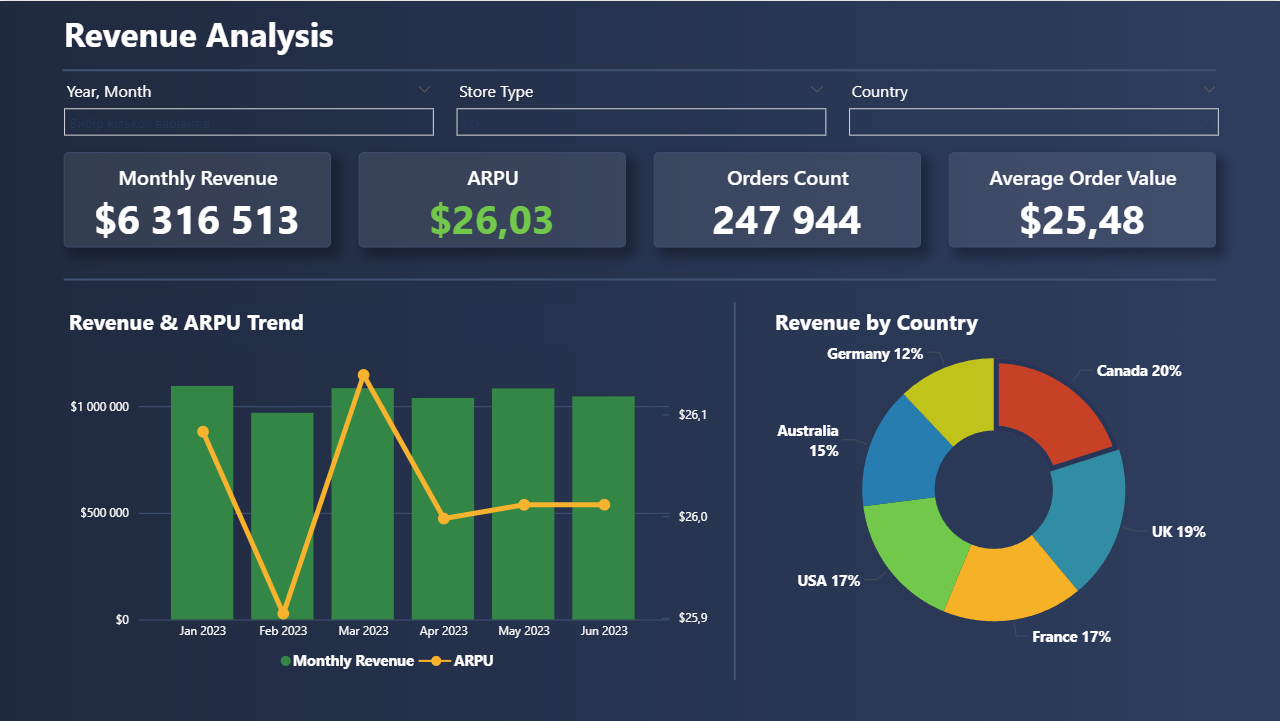

What the dashboard file says about the page in this screenshot:
{"tool":"powerbi","page":{"name":"Revenue Analysis ","canvas":[1280,720],"ordinal":1},"visuals":[{"type":"group","id":"g1","title":"Группа 2","box":[54.3,73.6,1173.9,61.5],"z":0},{"type":"slicer","fields":{"Values":["Calendar.Year","Calendar.Month"]},"box":[54.3,73.6,389.8,61.1],"z":0,"group":"g1"},{"type":"card","title":"Monthly Revenue","fields":{"Values":["AOV.Monthly Revenue"]},"box":[63.9,150.8,266.9,95],"z":0,"group":"g3"},{"type":"donutChart","title":"Revenue by Country","fields":{"Category":["cohort_metrics.country"],"Y":["Sum(cohort_metrics.revenue)"]},"box":[770.1,297.3,447.6,382.4],"z":0,"group":"g4"},{"type":"shape","title":"Retention Heatmap","box":[63.5,0,1153,65.1],"z":1000},{"type":"slicer","fields":{"Values":["cohort_metrics.country"]},"box":[838.7,73.6,389.8,61.1],"z":1000,"group":"g1"},{"type":"card","title":"ARPU","fields":{"Values":["AOV.ARPU"]},"box":[359,150.8,266.9,95.3],"z":1000,"group":"g3"},{"type":"textbox","box":[769.7,301.7,298,48.3],"z":1000,"group":"g4"},{"type":"slicer","fields":{"Values":["cohort_metrics.store_type"]},"box":[446.5,73.6,389.8,61.1],"z":2000,"group":"g1"},{"type":"card","title":"Orders Count","fields":{"Values":["AOV.Orders Count"]},"box":[654,150.8,266.9,95.3],"z":2000,"group":"g3"},{"type":"group","id":"g2","title":"Група 1","box":[65.1,348.7,647.9,330.6],"z":2000},{"type":"card","title":"Average Order Value","fields":{"Values":["AOV.Average Order Value"]},"box":[949.1,150.8,266.9,95.3],"z":3000,"group":"g3"},{"type":"shape","box":[63.9,272.7,1152.2,12.1],"z":3000},{"type":"textbox","box":[63.9,301.6,604.4,48.3],"z":4000},{"type":"shape","box":[62.7,65.1,1153.4,8.4],"z":5000},{"type":"group","id":"g3","title":"Група 2","box":[63.9,150.8,1152.2,95.3],"z":6000},{"type":"lineClusteredColumnComboChart","title":"Retention Rate by Cohort","fields":{"Category":["Calendar.MonthYear1"],"Y":["AOV.Monthly Revenue"],"Y2":["AOV.ARPU"]},"box":[65.1,348.7,647.9,330.6],"z":6000,"group":"g2"},{"type":"group","id":"g4","title":"Група 3","box":[769.7,297.3,447.9,382.4],"z":7000},{"type":"shape","box":[728.7,301.6,12.1,377.6],"z":8000}]}

Visuals, with their boxes in screenshot pixels (x1, y1, x2, y2), scaled from the page's 1280x720 canvas onto the 1280x721 screenshot:
"Группа 2" group: <bbox>54, 74, 1228, 135</bbox>
slicer - Calendar.Year x Calendar.Month: <bbox>54, 74, 444, 135</bbox>
"Monthly Revenue" card: <bbox>64, 151, 331, 246</bbox>
"Revenue by Country" donutChart: <bbox>770, 298, 1218, 681</bbox>
"Retention Heatmap" shape: <bbox>64, 0, 1216, 65</bbox>
slicer - cohort_metrics.country: <bbox>839, 74, 1228, 135</bbox>
"ARPU" card: <bbox>359, 151, 626, 246</bbox>
textbox: <bbox>770, 302, 1068, 350</bbox>
slicer - cohort_metrics.store_type: <bbox>446, 74, 836, 135</bbox>
"Orders Count" card: <bbox>654, 151, 921, 246</bbox>
"Група 1" group: <bbox>65, 349, 713, 680</bbox>
"Average Order Value" card: <bbox>949, 151, 1216, 246</bbox>
shape: <bbox>64, 273, 1216, 285</bbox>
textbox: <bbox>64, 302, 668, 350</bbox>
shape: <bbox>63, 65, 1216, 74</bbox>
"Група 2" group: <bbox>64, 151, 1216, 246</bbox>
"Retention Rate by Cohort" lineClusteredColumnComboChart: <bbox>65, 349, 713, 680</bbox>
"Група 3" group: <bbox>770, 298, 1218, 681</bbox>
shape: <bbox>729, 302, 741, 680</bbox>
